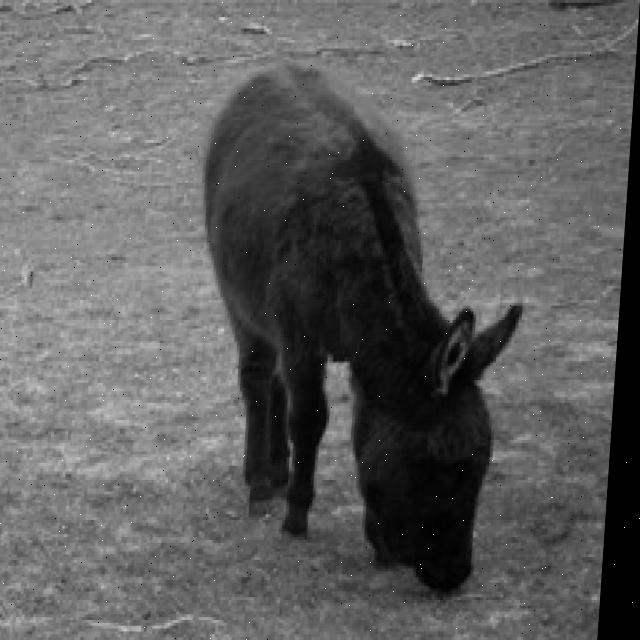Donkey: (172, 60, 539, 591)
